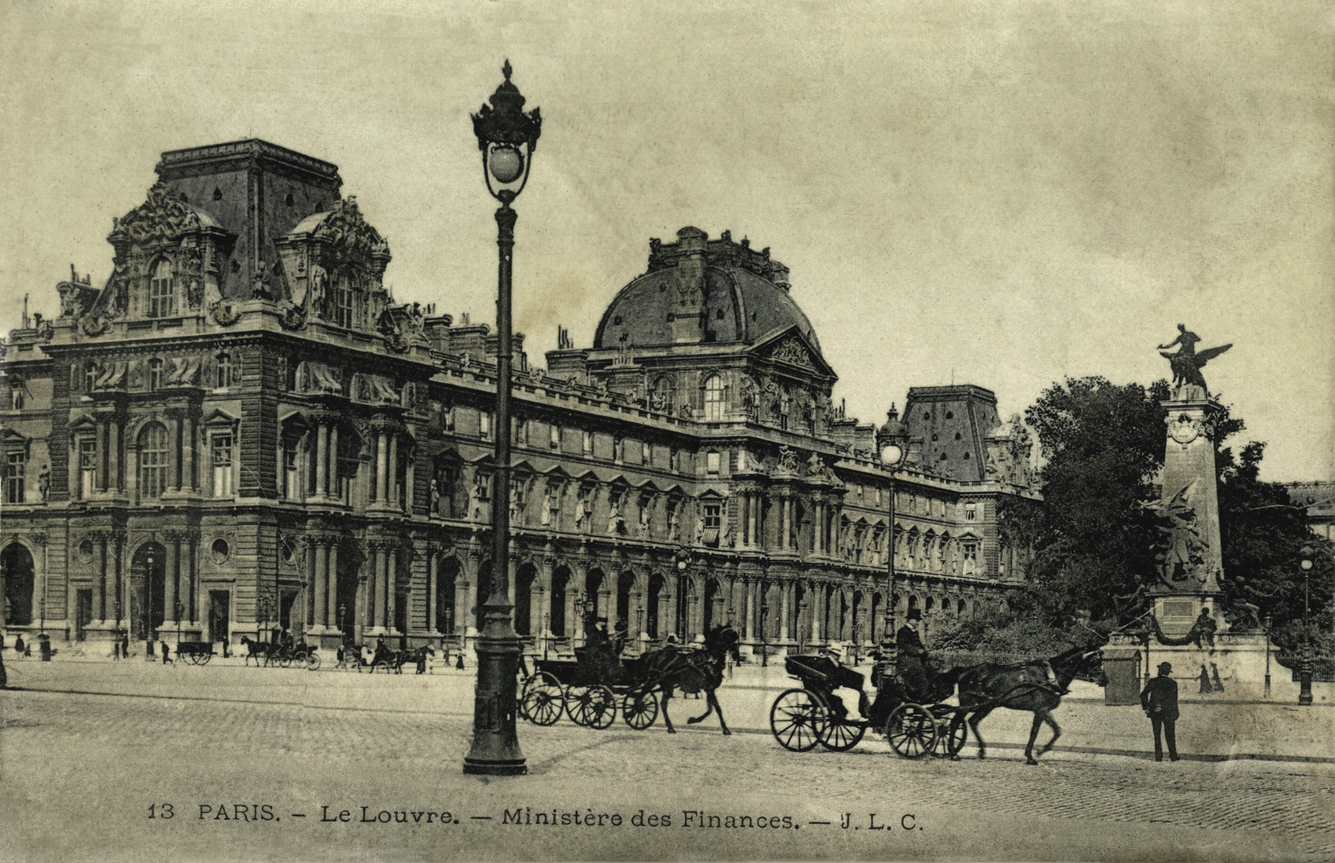fachada: (0, 129, 1070, 667)
poste: (463, 58, 544, 775), (1283, 534, 1329, 715)
